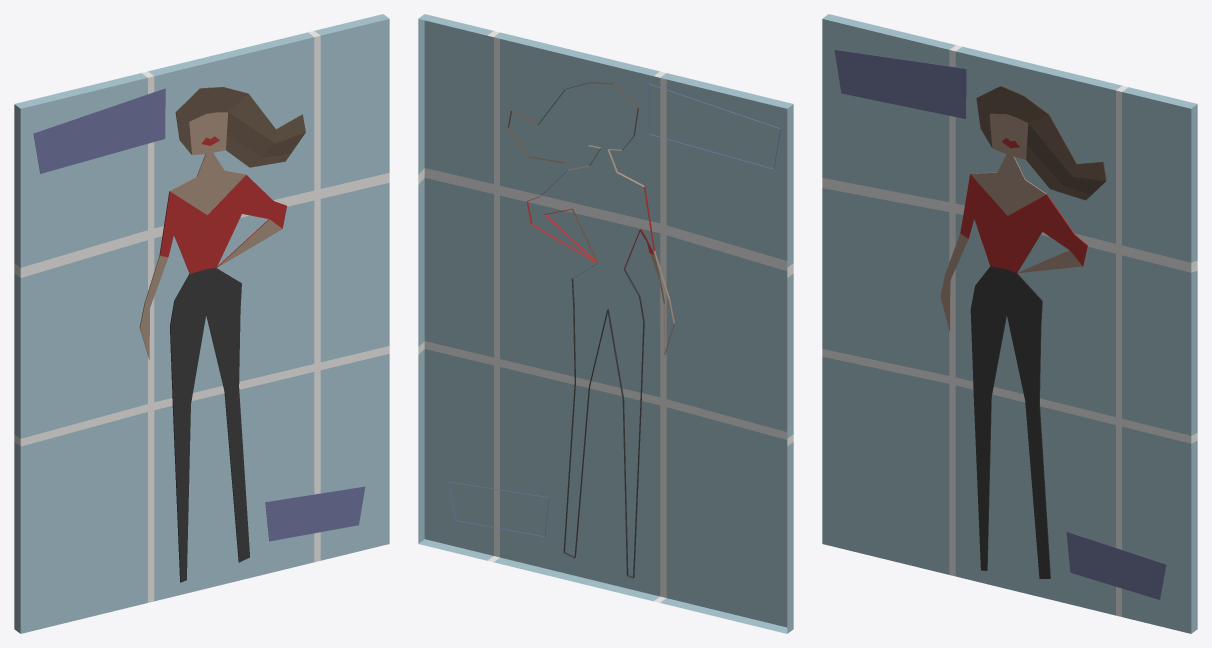
Rendered from Poster_1.fbx.
3 views of the same model, side by side, from view 1: azimuth 30°, elevation 25°; view 2: azimuth 150°, elevation 25°; view 3: azimuth 330°, elevation 25° (orthographic).
Visible parts, largest first — view 1: Poster_1; view 2: Poster_1; view 3: Poster_1.
Part boxes in pixels (x1,y1,x2,y2): Poster_1: (14, 14, 389, 633); Poster_1: (418, 14, 793, 633); Poster_1: (822, 14, 1197, 633).
Bounding box in the file's own units: 67.87 × 2.74 × 92.27.
